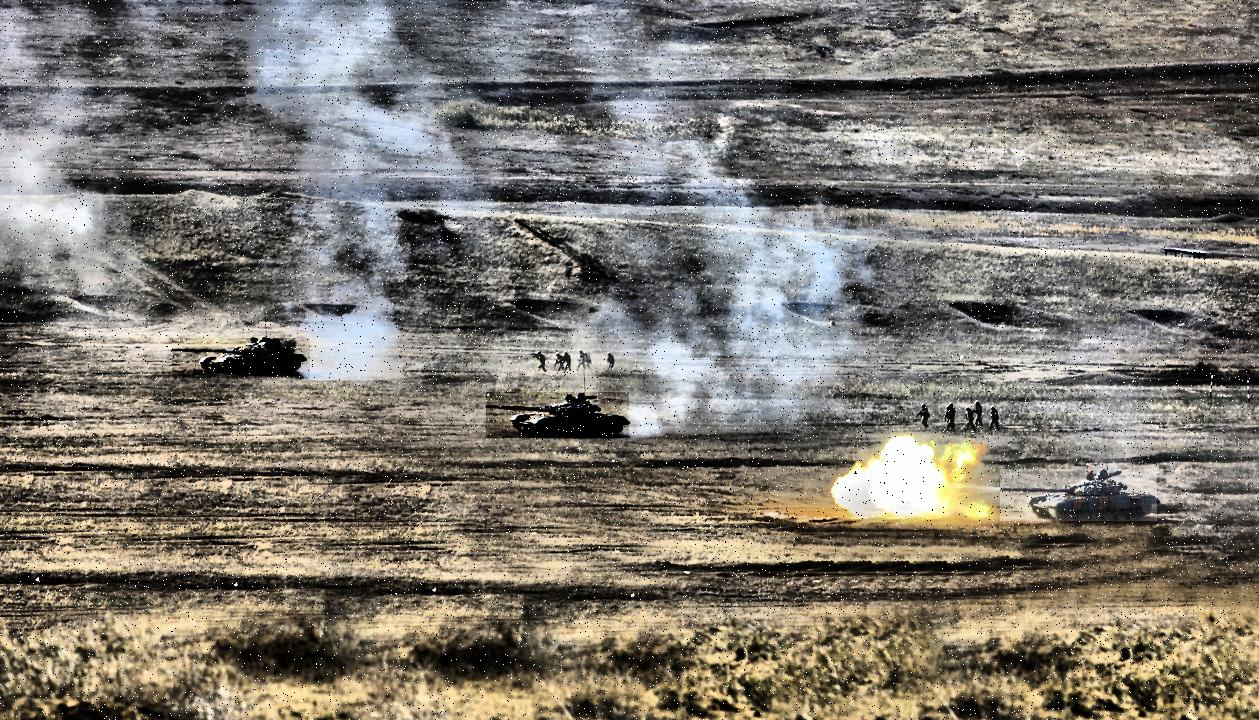military-vehicle: (1001, 469, 1158, 521), (487, 392, 630, 438), (172, 339, 310, 379)
